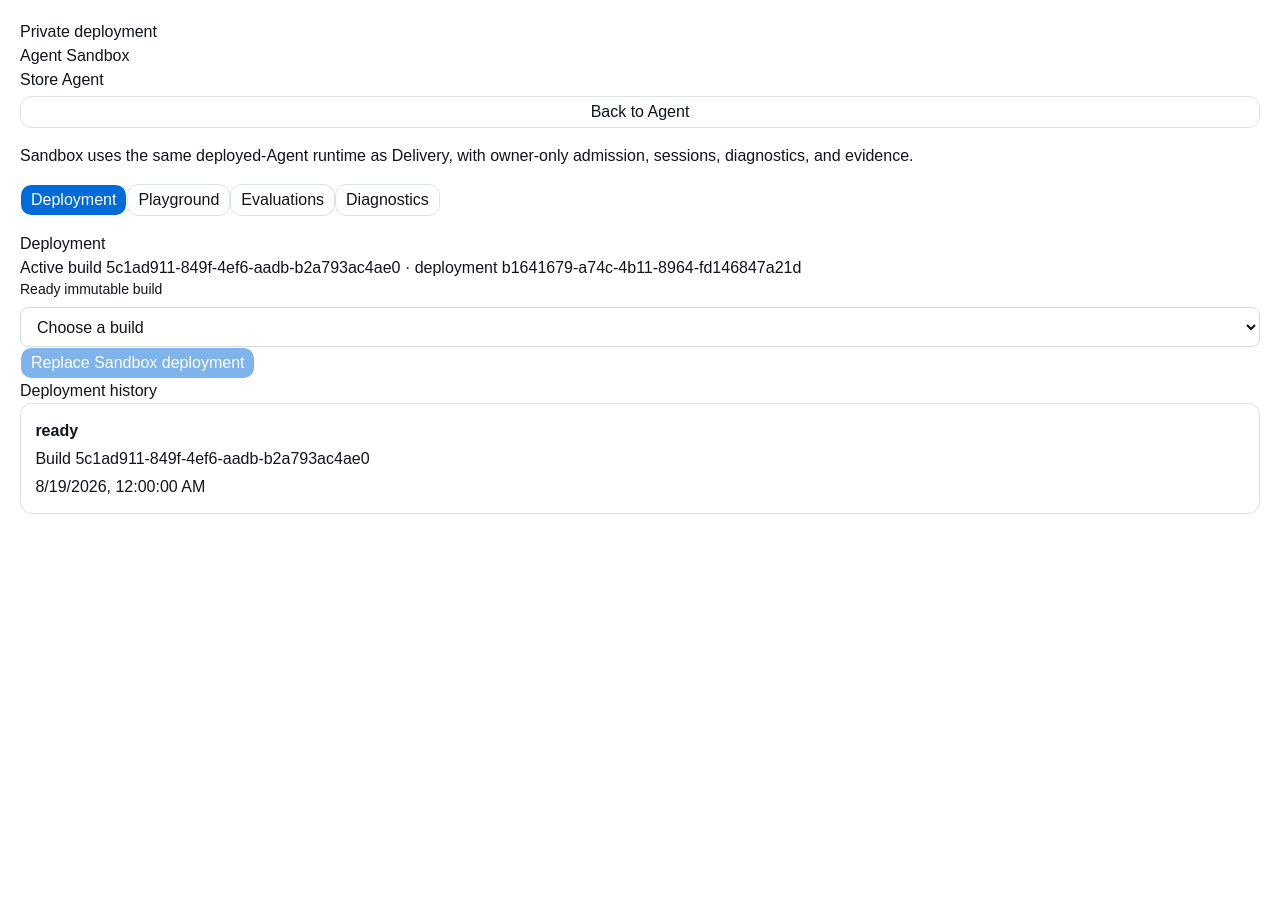
continues one deployment-pinned Playground conversation through review and another turn
Expected: the heading "Deployment" is shown, x1=20 y1=235 x2=105 y2=252
Click the button "Playground" at (179, 200), box x1=127 y1=184 x2=230 y2=216
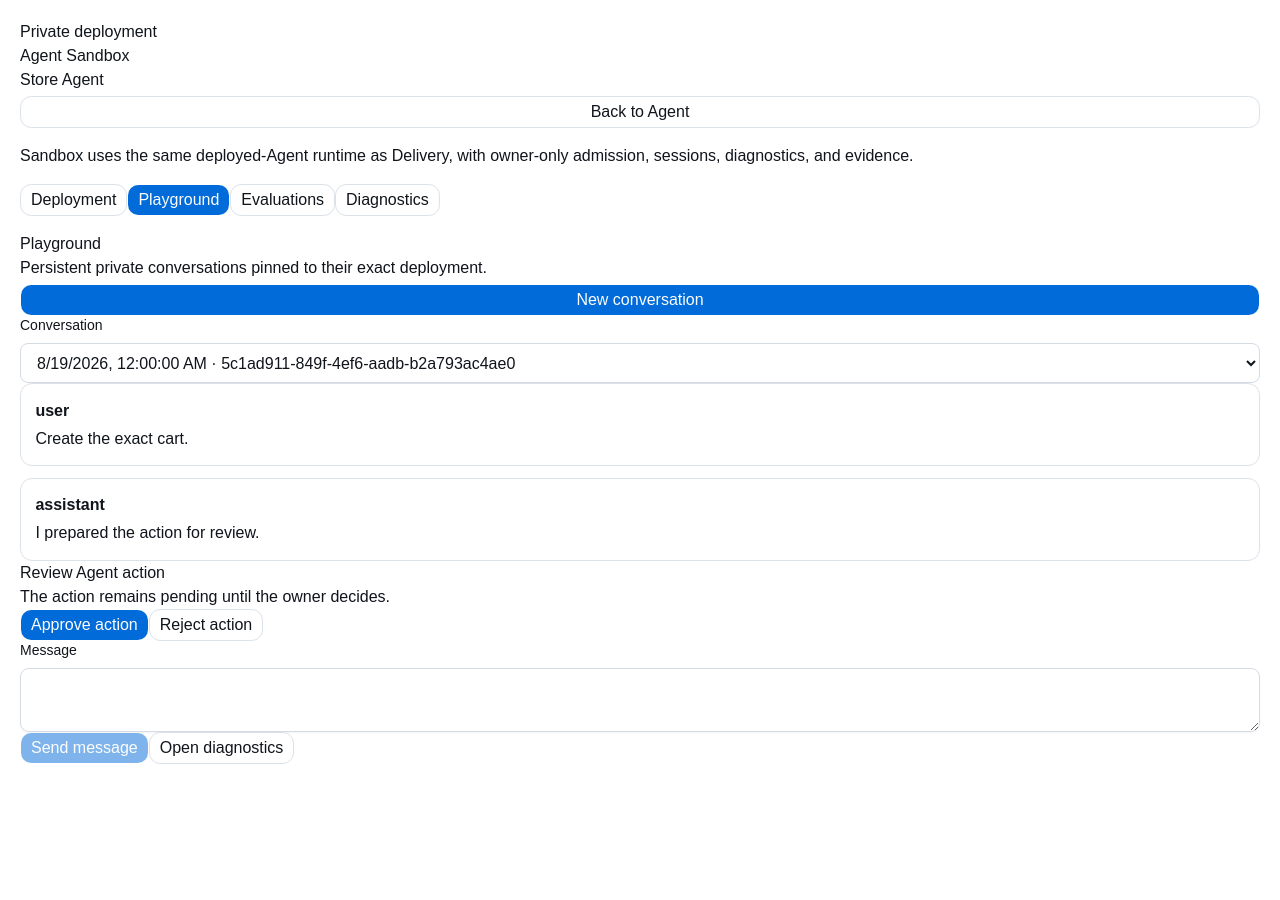
Expected: the text "I prepared the action for review." is shown, x1=35 y1=524 x2=260 y2=541
Expected: the heading "Review Agent action" is shown, x1=20 y1=564 x2=165 y2=581
Click the button "Approve action" at (84, 625), box x1=20 y1=609 x2=149 y2=641
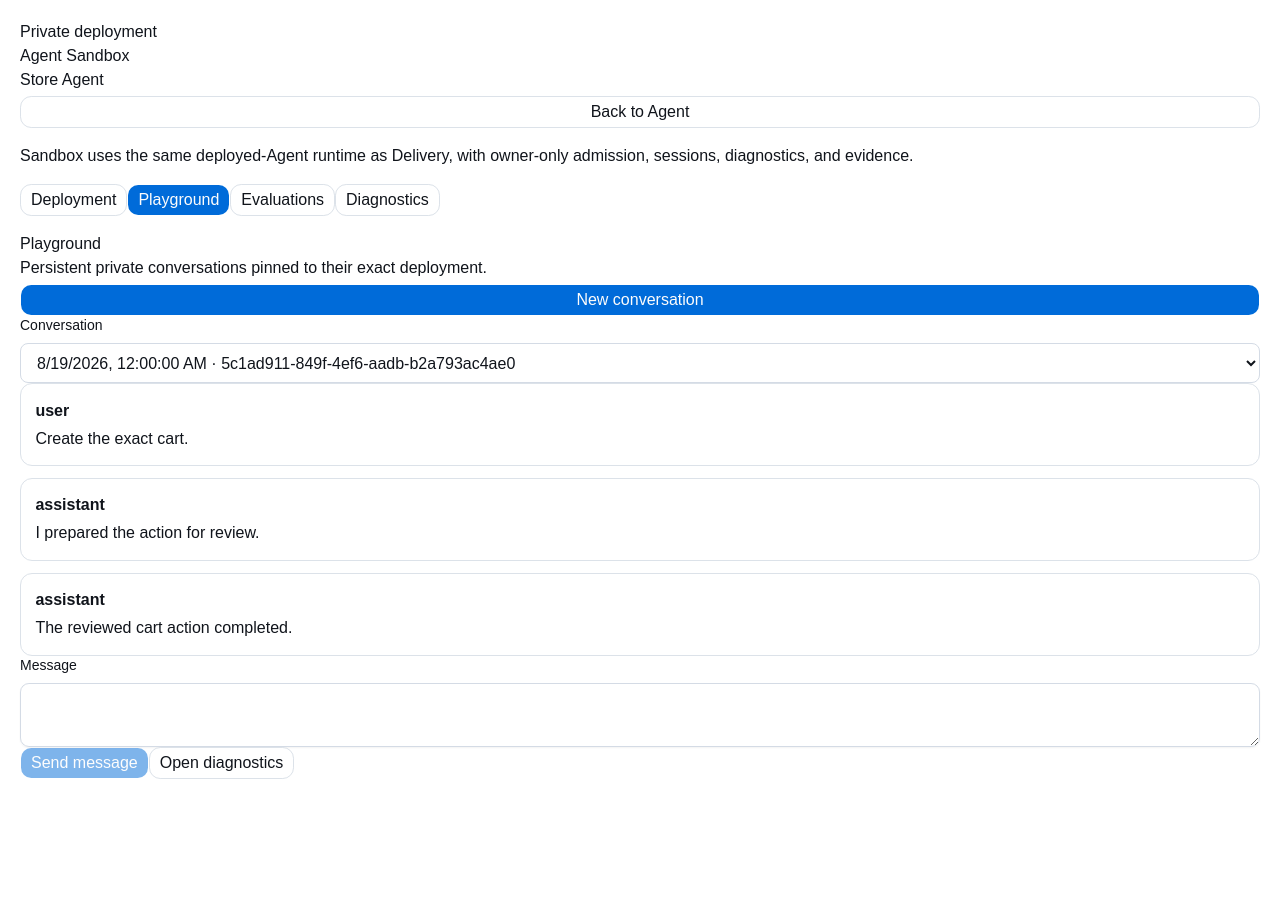
Expected: the text "The reviewed cart action completed." is shown, x1=35 y1=619 x2=292 y2=636
Type "What is in that same cart?" into the text box labelled "Message" at (640, 715), box x1=20 y1=683 x2=1260 y2=747
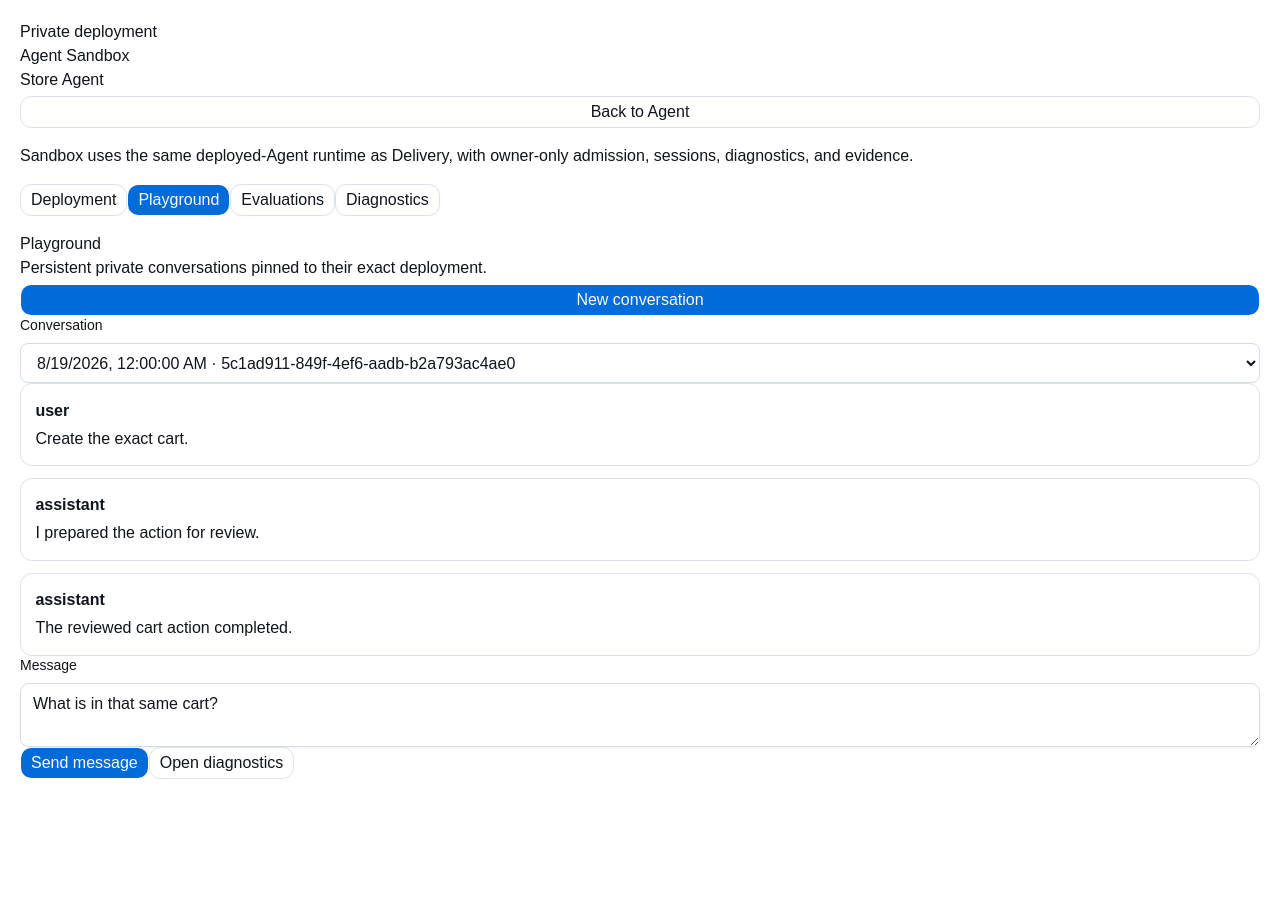
Click the button "Send message" at (84, 763), box x1=20 y1=747 x2=149 y2=779
(page scrolled)
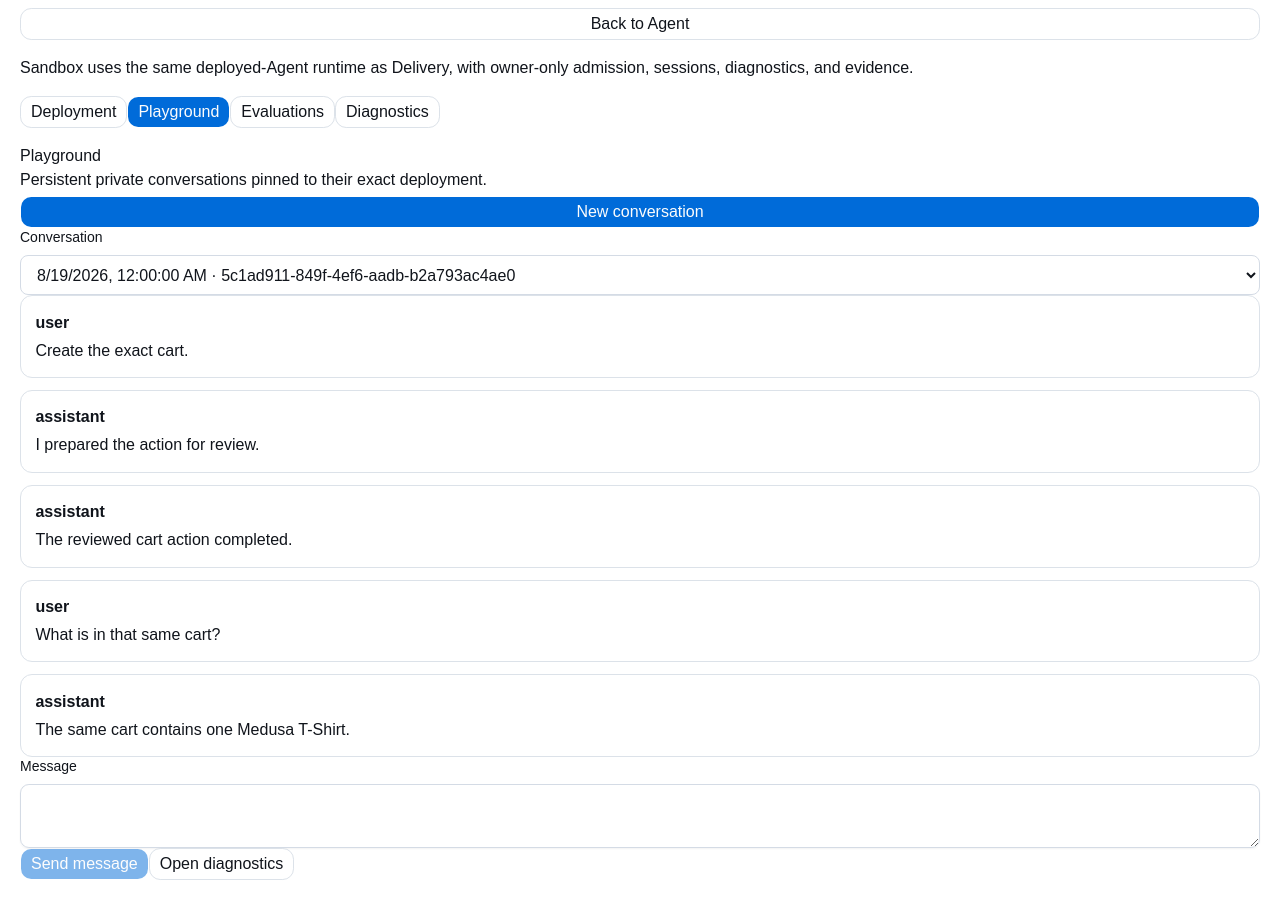
Expected: the text "The same cart contains one Medusa T-Shirt." is shown, x1=35 y1=721 x2=350 y2=738
Click the button "Open diagnostics" at (222, 864), box x1=149 y1=848 x2=294 y2=880
(page scrolled)
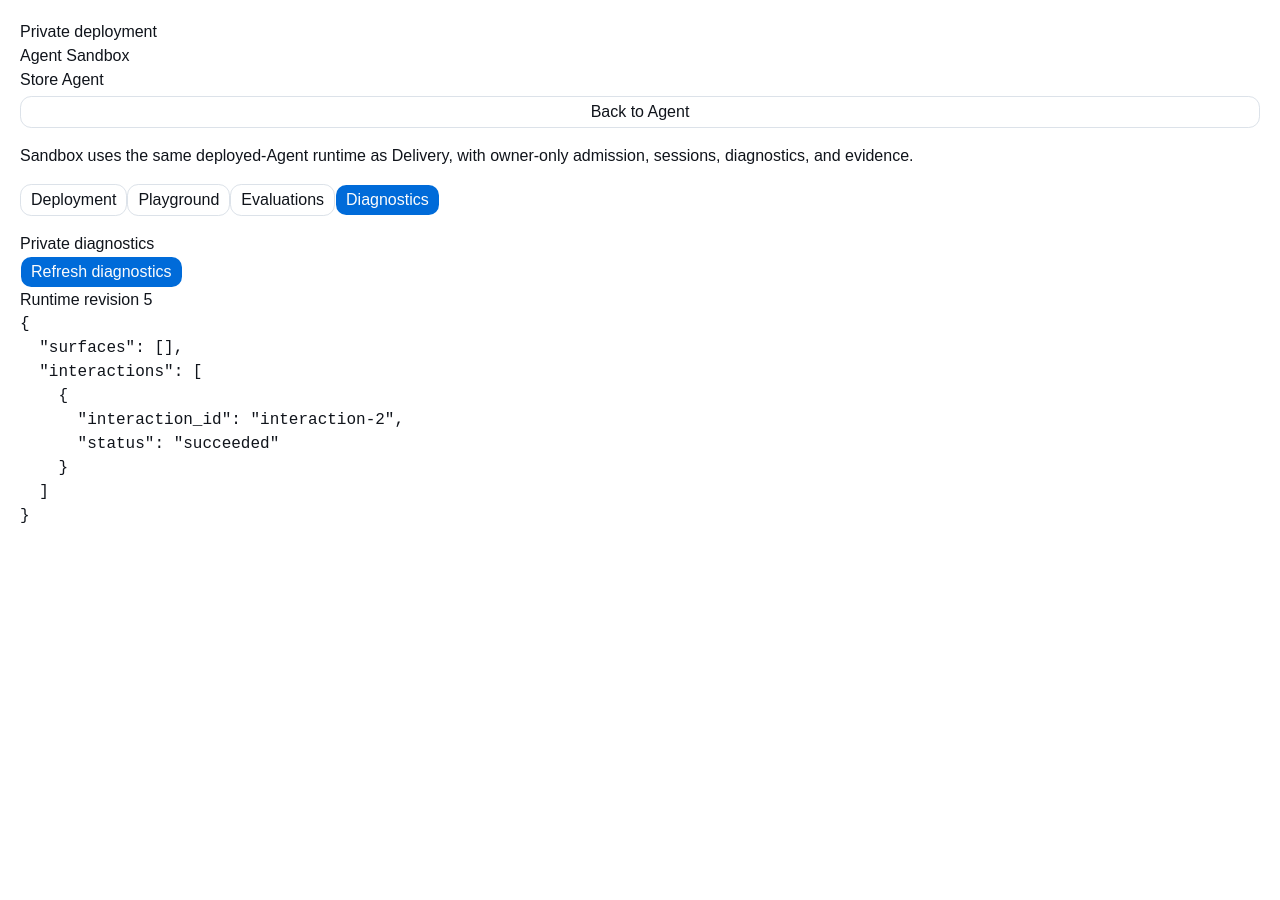
Expected: the text "Runtime revision 5" is shown, x1=20 y1=291 x2=152 y2=308
